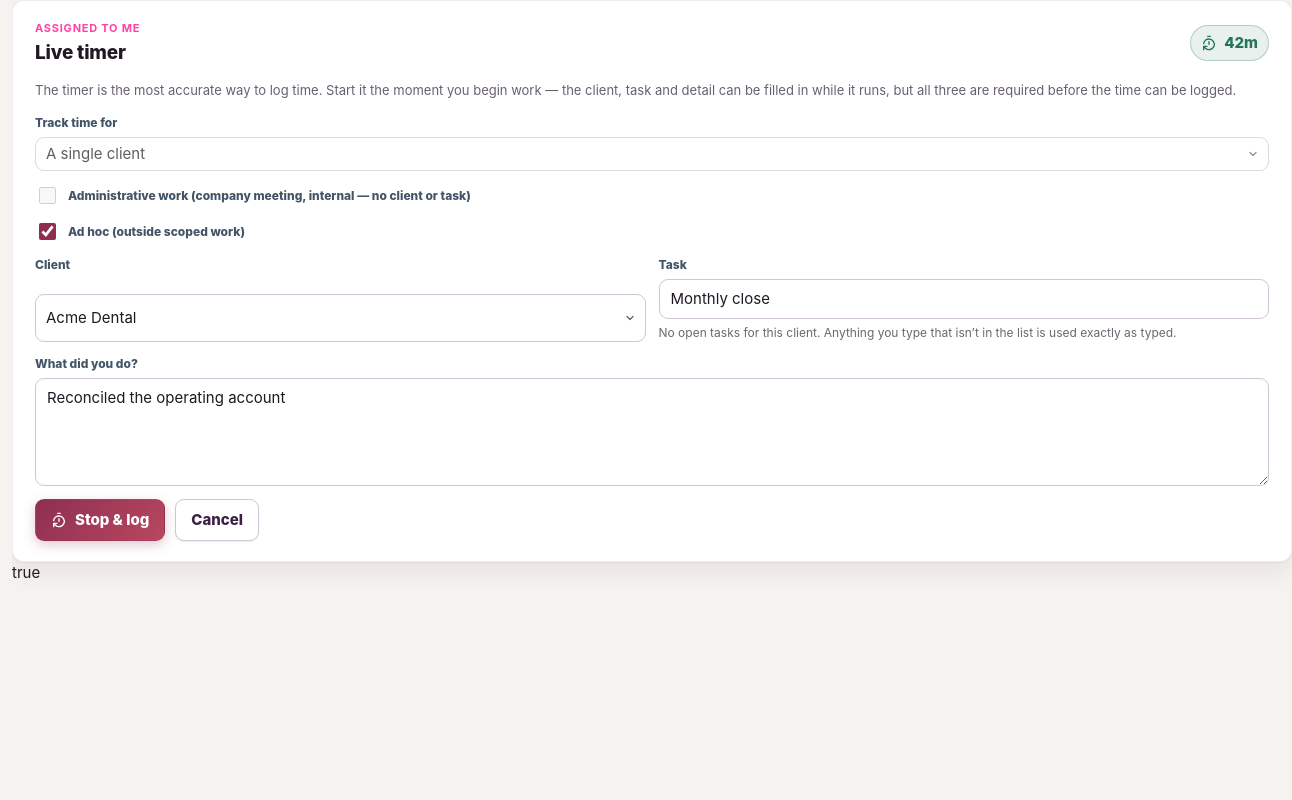
Test: the Ad hoc tick on the timer panel › can be taken back off mid-run
Click the checkbox labelled "Ad hoc (outside scoped work)" at {"x": 48, "y": 231}, box [39,223,56,240]
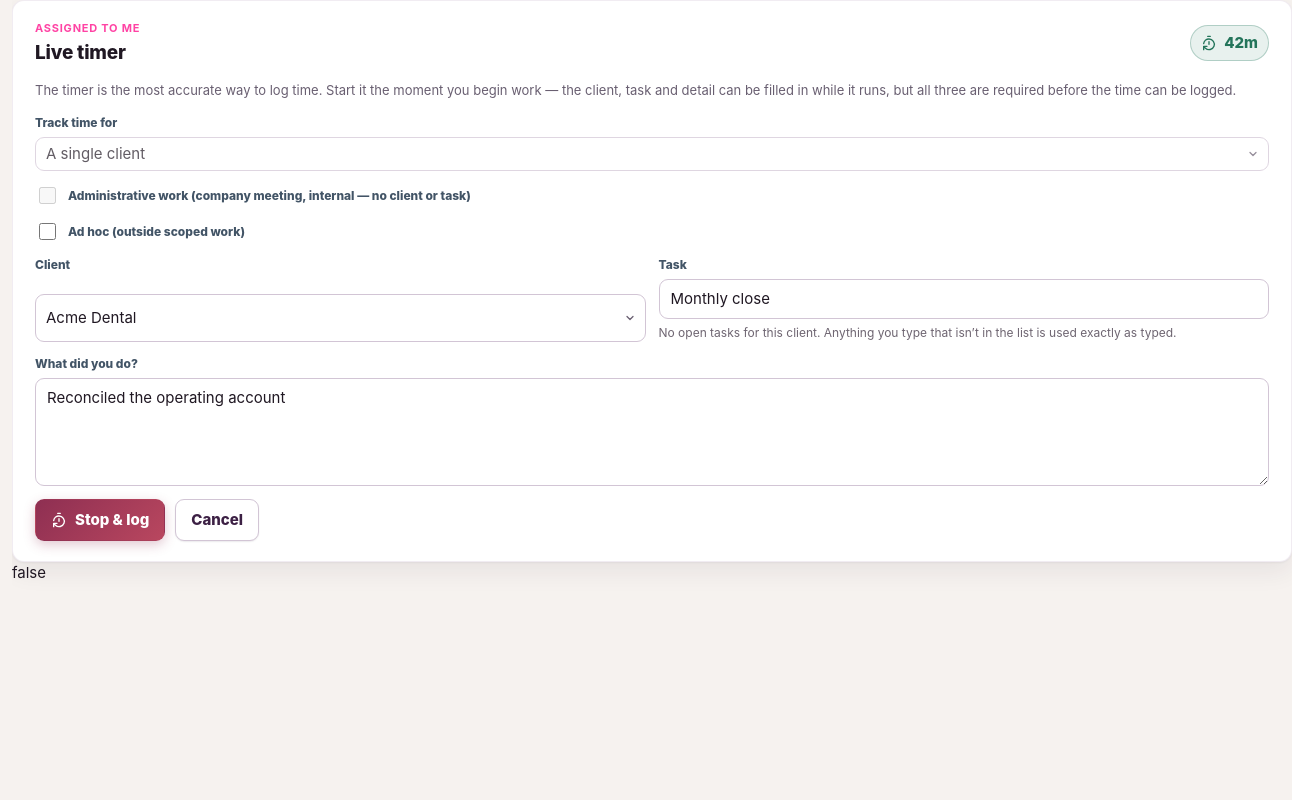
Expected: the text with test id "timer-adhoc" reads "false", [12,563,46,582]
